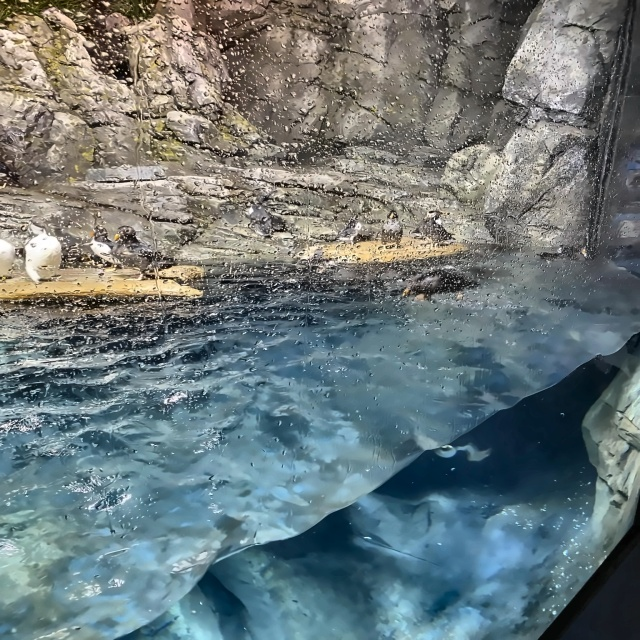puffin: (114, 225, 172, 281), (401, 270, 480, 302), (25, 222, 67, 282), (414, 211, 456, 248), (88, 225, 120, 265), (538, 243, 593, 265), (379, 210, 402, 248), (337, 212, 362, 246), (0, 234, 15, 281)
